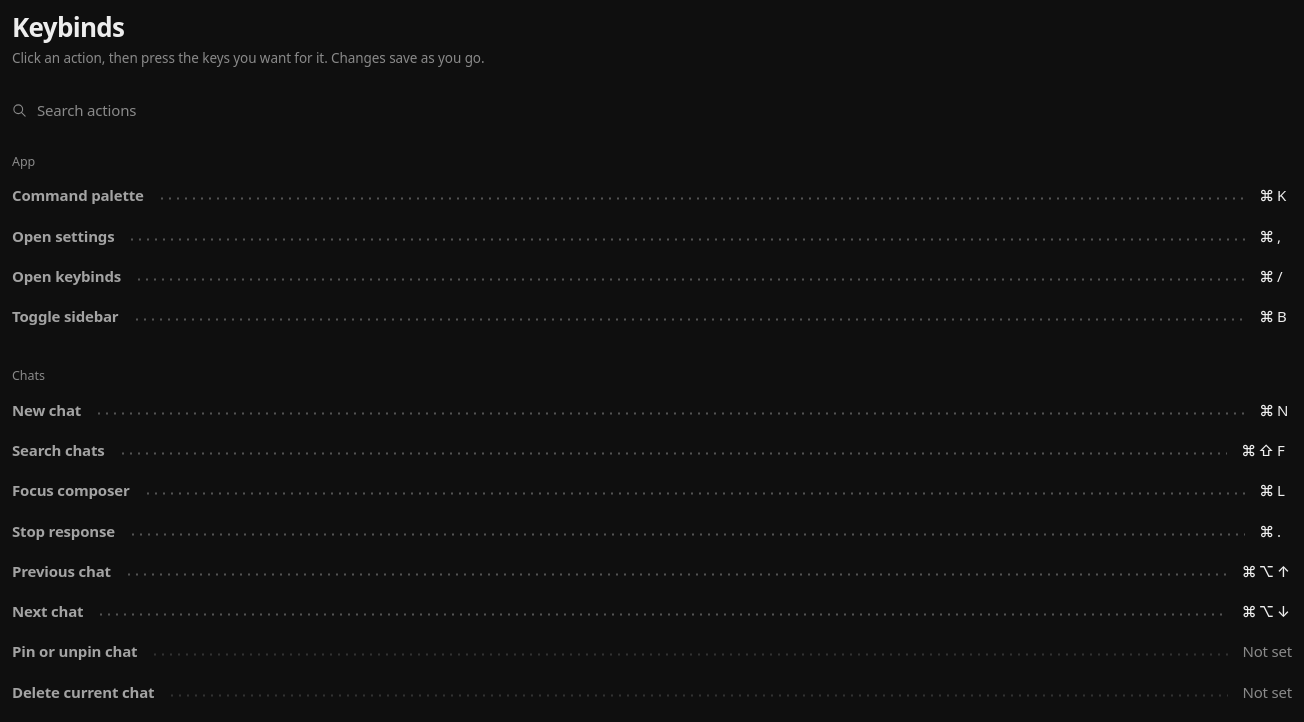
keybind settings › keeps recording when a keybind conflicts or has no safe modifier
Click the button named "Change New chat keybind" at [1276, 410], box [1259, 400, 1292, 420]
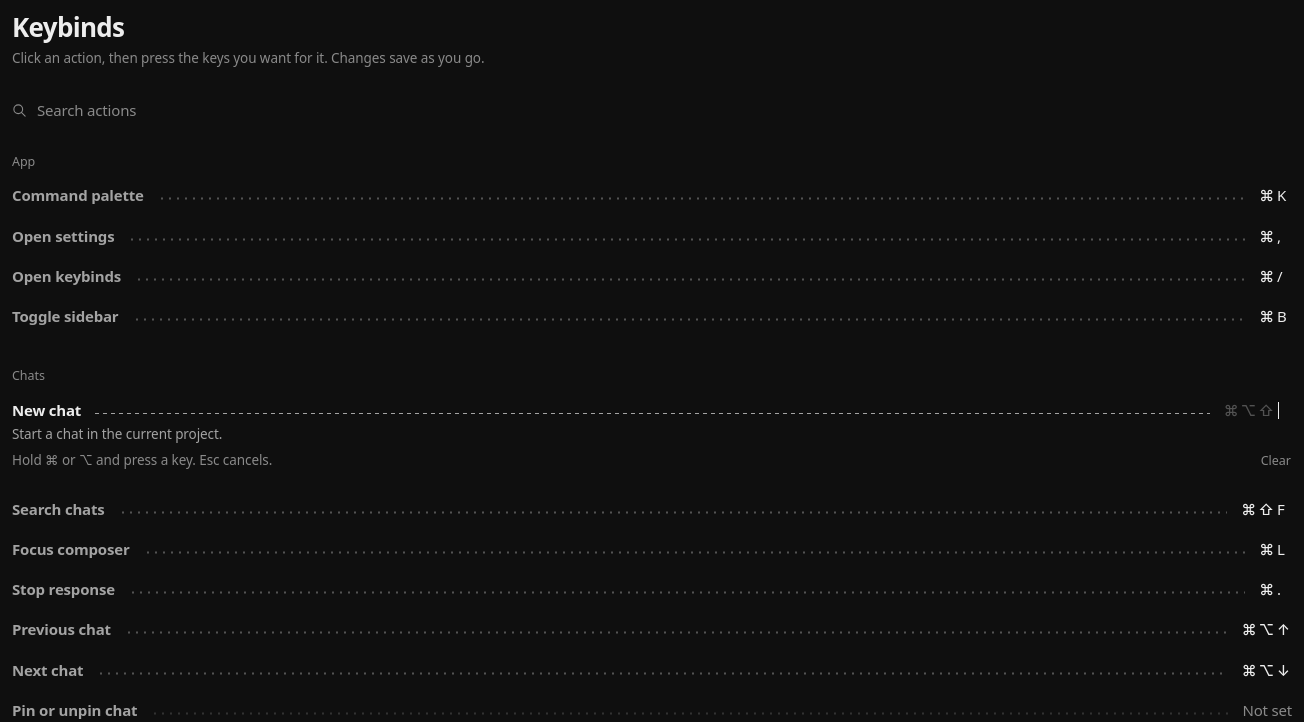
Press k in the button named "Change New chat keybind", box [1224, 400, 1292, 420]
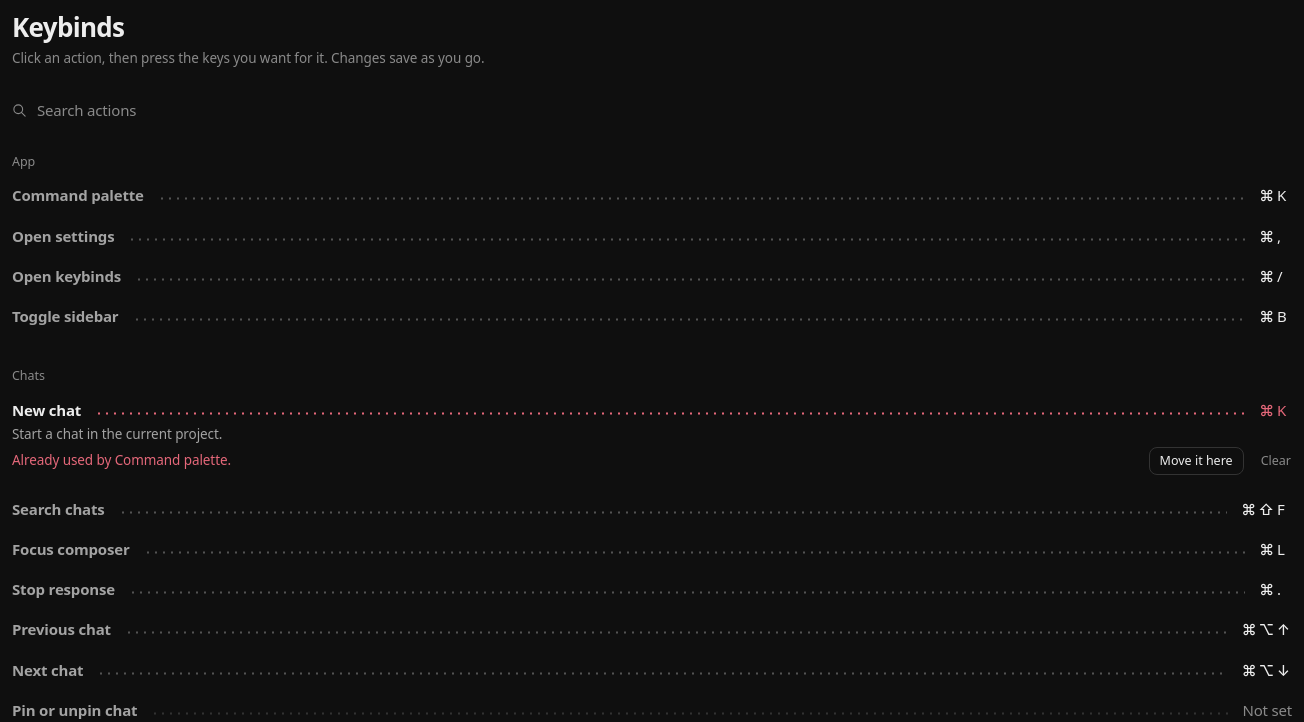
Expected: the message reads "Already used by Command palette.", [12, 451, 231, 469]
Press g in the button named "Change New chat keybind", box [1259, 400, 1292, 420]
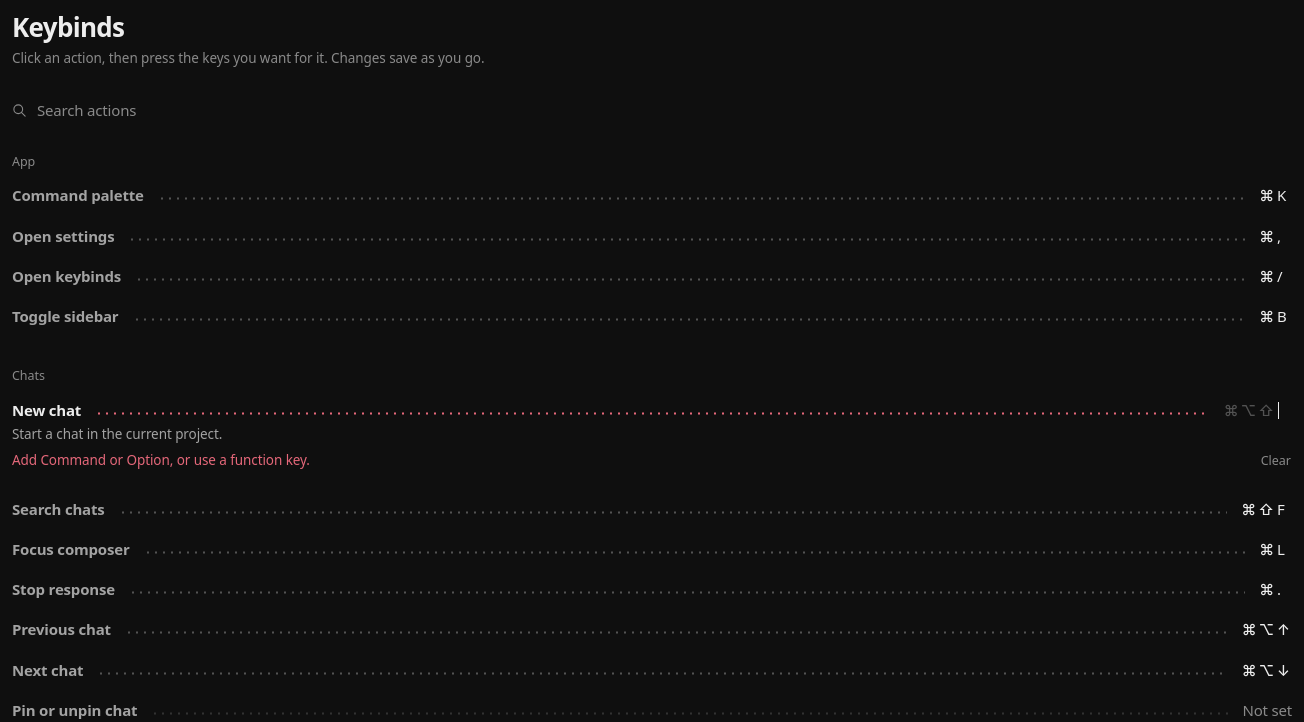
Expected: the message shows "Add Command", [12, 451, 310, 469]
